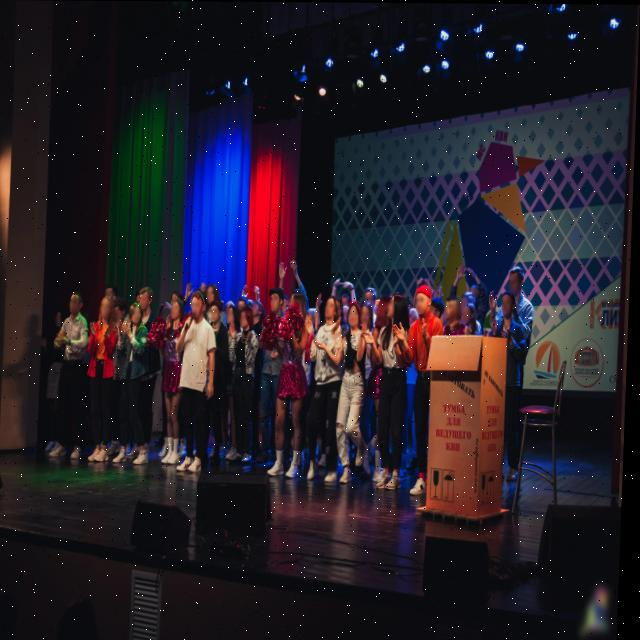Person: (408, 286, 446, 497), (309, 295, 349, 479), (51, 290, 93, 461), (494, 292, 531, 486), (274, 287, 310, 481), (258, 281, 295, 462), (224, 304, 264, 464), (97, 280, 133, 456), (379, 293, 410, 495), (338, 300, 372, 484), (116, 306, 152, 465), (494, 262, 539, 386), (184, 289, 214, 472), (90, 294, 121, 471), (157, 299, 187, 473), (203, 302, 232, 468), (111, 297, 135, 465), (45, 312, 73, 452), (219, 306, 241, 459), (443, 293, 464, 334), (464, 300, 481, 334), (208, 277, 222, 313), (361, 302, 378, 326), (104, 279, 121, 302), (171, 285, 189, 306), (365, 281, 382, 303), (339, 290, 354, 306)
